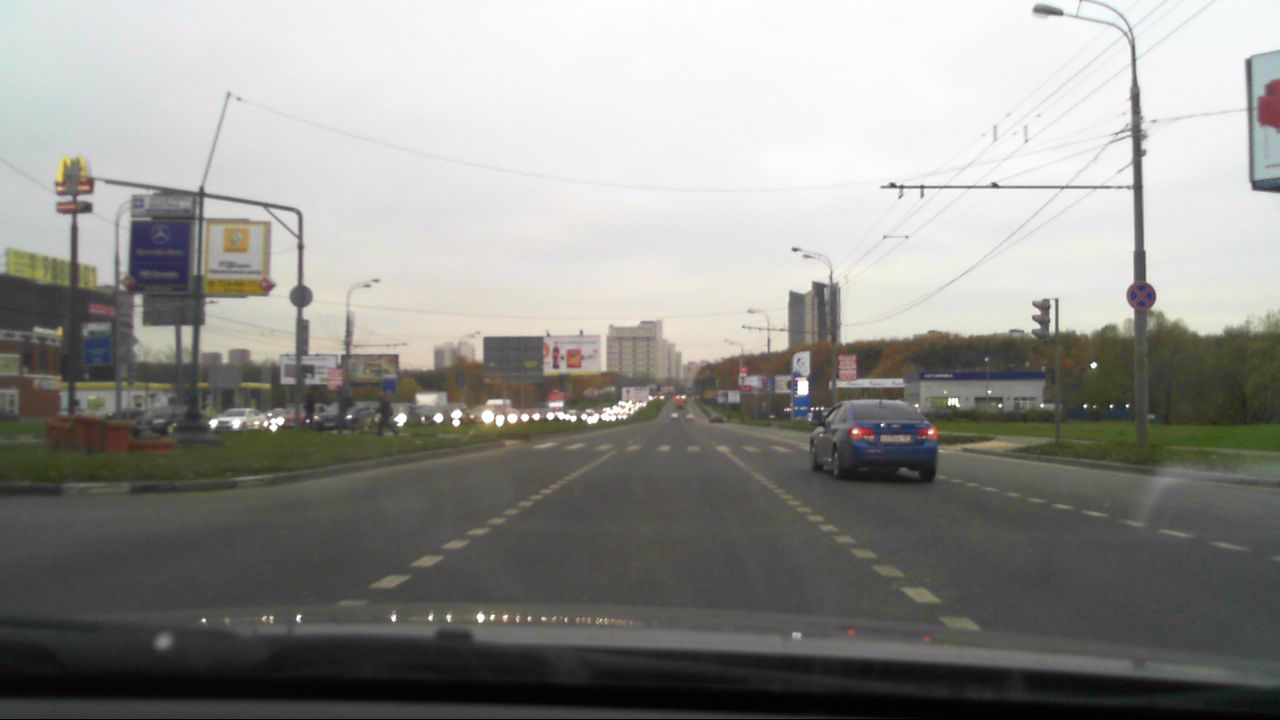No Parking: (1125, 282, 1156, 311)
